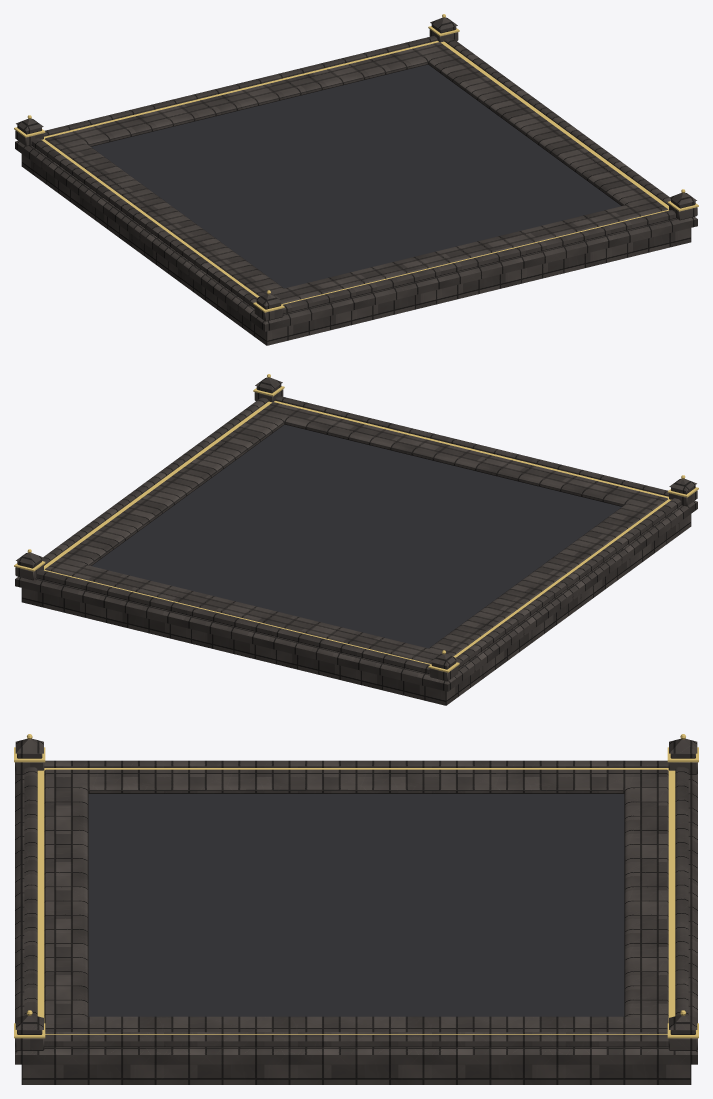
File: board_frame.glb
3 views of the same model, one above another, from view 1: azimuth 30°, elevation 25°; view 2: azimuth 150°, elevation 25°; view 3: azimuth 270°, elevation 25° (orthographic). The views are drawn at different scales.
Parts seen in each view (by area): view 1: BoardBase_Mesh, BoardFrame_Mesh, CornerPost_SW_Mesh, CornerPost_SE_Mesh, CornerPost_NW_Mesh, CornerPost_NE_Mesh; view 2: BoardBase_Mesh, BoardFrame_Mesh, CornerPost_NW_Mesh, CornerPost_NE_Mesh, CornerPost_SW_Mesh, CornerPost_SE_Mesh; view 3: BoardBase_Mesh, BoardFrame_Mesh, CornerPost_NE_Mesh, CornerPost_SE_Mesh, CornerPost_NW_Mesh, CornerPost_SW_Mesh.
Part boxes in pixels (<box>): BoardBase_Mesh: <box>91,64,621,288</box>; BoardFrame_Mesh: <box>15,36,697,345</box>; CornerPost_SW_Mesh: <box>253,290,284,321</box>; CornerPost_SE_Mesh: <box>667,189,698,220</box>; CornerPost_NW_Mesh: <box>14,115,45,146</box>; CornerPost_NE_Mesh: <box>428,14,459,42</box>; BoardBase_Mesh: <box>91,424,621,648</box>; BoardFrame_Mesh: <box>15,396,697,705</box>; CornerPost_NW_Mesh: <box>428,650,459,681</box>; CornerPost_NE_Mesh: <box>14,549,45,580</box>; CornerPost_SW_Mesh: <box>667,475,698,506</box>; CornerPost_SE_Mesh: <box>253,374,284,402</box>; BoardBase_Mesh: <box>88,794,624,1016</box>; BoardFrame_Mesh: <box>15,760,697,1084</box>; CornerPost_NE_Mesh: <box>667,1010,698,1050</box>; CornerPost_SE_Mesh: <box>14,1010,45,1050</box>; CornerPost_NW_Mesh: <box>667,734,698,774</box>; CornerPost_SW_Mesh: <box>14,734,45,774</box>.
Size of the model in its own units: 10.23 by 1.18 by 10.23.
Materials: 3 (1 with a texture image).
